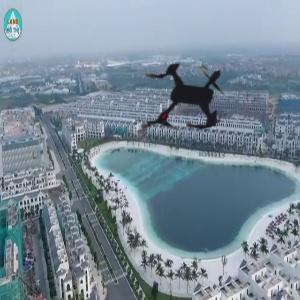drone: (100, 5, 279, 184)
